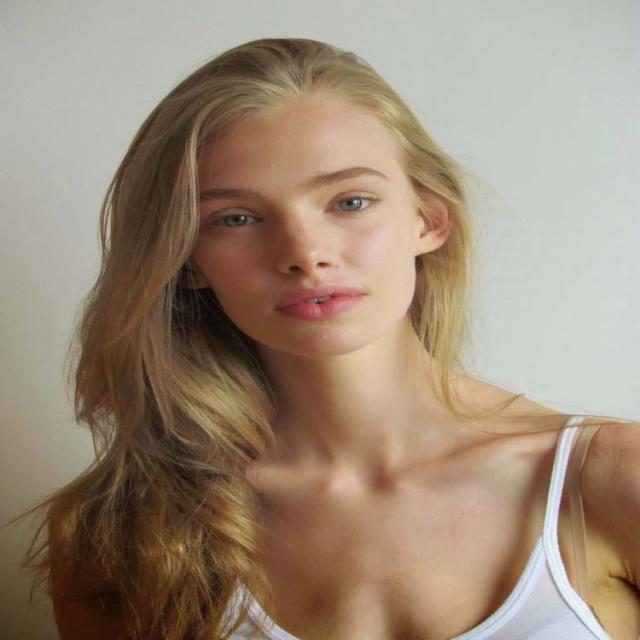earlobe: (178, 266, 208, 292), (414, 233, 438, 256)
eye: (206, 210, 265, 230), (326, 194, 378, 214)
nose: (279, 260, 340, 286)
wholeear: (414, 185, 455, 256)
